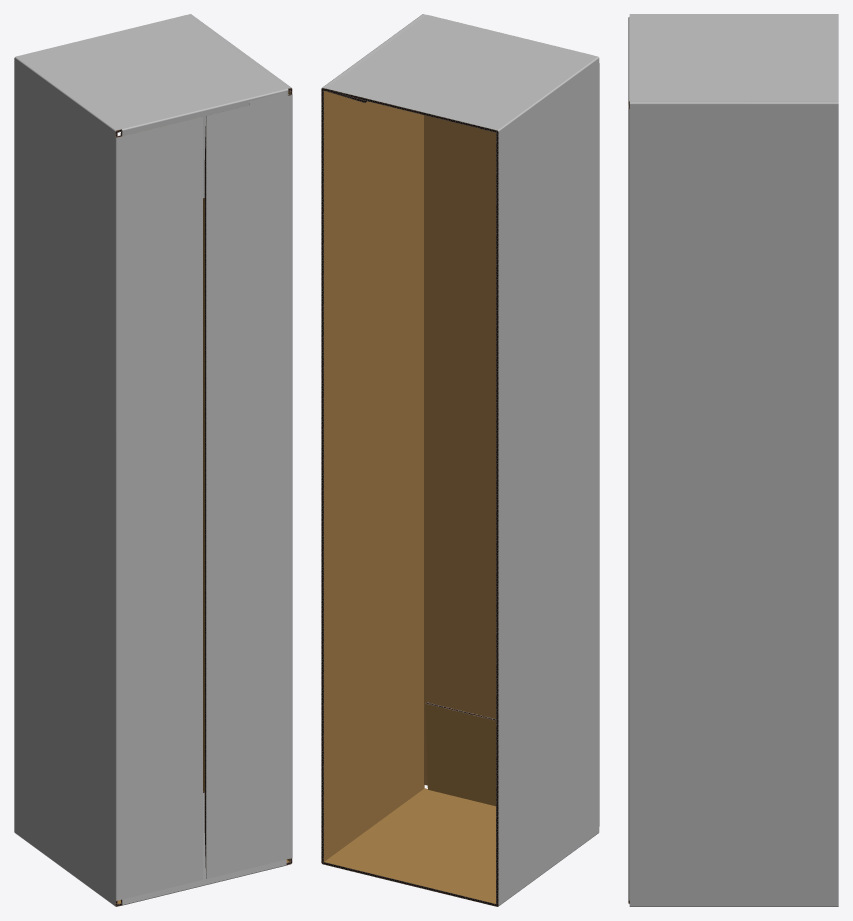
The model's file is fefco.gltf.
3 views of the same model, side by side, from view 1: azimuth 30°, elevation 25°; view 2: azimuth 150°, elevation 25°; view 3: azimuth 270°, elevation 25° (orthographic). The views are drawn at different scales.
Parts seen in each view (by area): view 1: Node (FoldingFace) 3, Node (FoldingFace) 17, Node (FoldingFace) 9, Node (FoldingFace) 5, Node (FoldingFace) 15, Node FoldingFace(9)-Fillet 10, Node (FoldingFace) 11, Node (FoldingFace) 19, Node (FoldingFace) 7, Node FoldingFace(17)-Fillet 18; view 2: Node (FoldingFace) 3, Node (FoldingFace) 11, Node (FoldingFace) 17, Node (FoldingFace) 5, Node (FoldingFace) 2, Node (FoldingFace) 19, Node FoldingFace(9)-Fillet 10; view 3: Node (FoldingFace) 11, Node (FoldingFace) 5, Node FoldingFace(17)-Fillet 18, Node FoldingFace(13)-Fillet 14, Node (FoldingFace) 13.
Boxes of the visible parts, x1,y1,x2,y2 form: Node (FoldingFace) 3: [14, 58, 117, 905]; Node (FoldingFace) 17: [204, 94, 291, 878]; Node (FoldingFace) 9: [117, 116, 202, 900]; Node (FoldingFace) 5: [16, 15, 287, 132]; Node (FoldingFace) 15: [249, 91, 291, 180]; Node FoldingFace(9)-Fillet 10: [115, 137, 117, 900]; Node (FoldingFace) 11: [203, 89, 292, 862]; Node (FoldingFace) 19: [120, 791, 286, 904]; Node (FoldingFace) 7: [120, 90, 288, 198]; Node FoldingFace(17)-Fillet 18: [291, 94, 292, 857]; Node (FoldingFace) 3: [496, 58, 599, 905]; Node (FoldingFace) 11: [321, 89, 424, 862]; Node (FoldingFace) 17: [424, 115, 495, 785]; Node (FoldingFace) 5: [326, 15, 597, 132]; Node (FoldingFace) 2: [322, 788, 497, 906]; Node (FoldingFace) 19: [425, 702, 495, 806]; Node FoldingFace(9)-Fillet 10: [599, 63, 599, 826]; Node (FoldingFace) 11: [629, 104, 838, 906]; Node (FoldingFace) 5: [629, 14, 838, 100]; Node FoldingFace(17)-Fillet 18: [628, 109, 629, 900]; Node FoldingFace(13)-Fillet 14: [629, 102, 838, 104]; Node (FoldingFace) 13: [629, 100, 838, 102].
Bounding box in the file's own units: 0.1035 × 0.4335 × 0.1028.
Materials: 3 (3 with a texture image).
